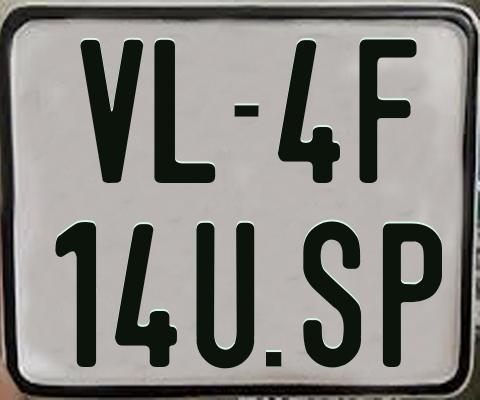1: (55, 220, 97, 370)
4: (112, 224, 175, 373), (278, 38, 340, 182)
F: (359, 38, 423, 185)
L: (154, 38, 220, 182)
P: (380, 222, 443, 370)
S: (301, 220, 362, 370)
U: (193, 221, 254, 368)
V: (78, 37, 141, 185)
